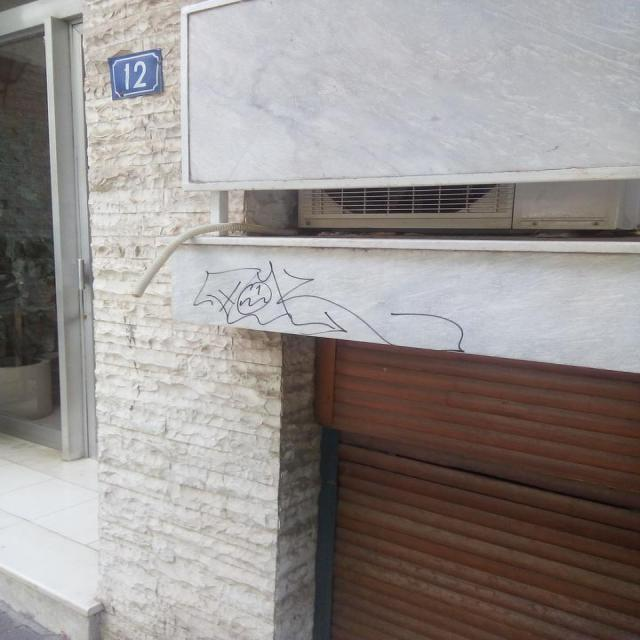nonspitting: (192, 260, 463, 353)
